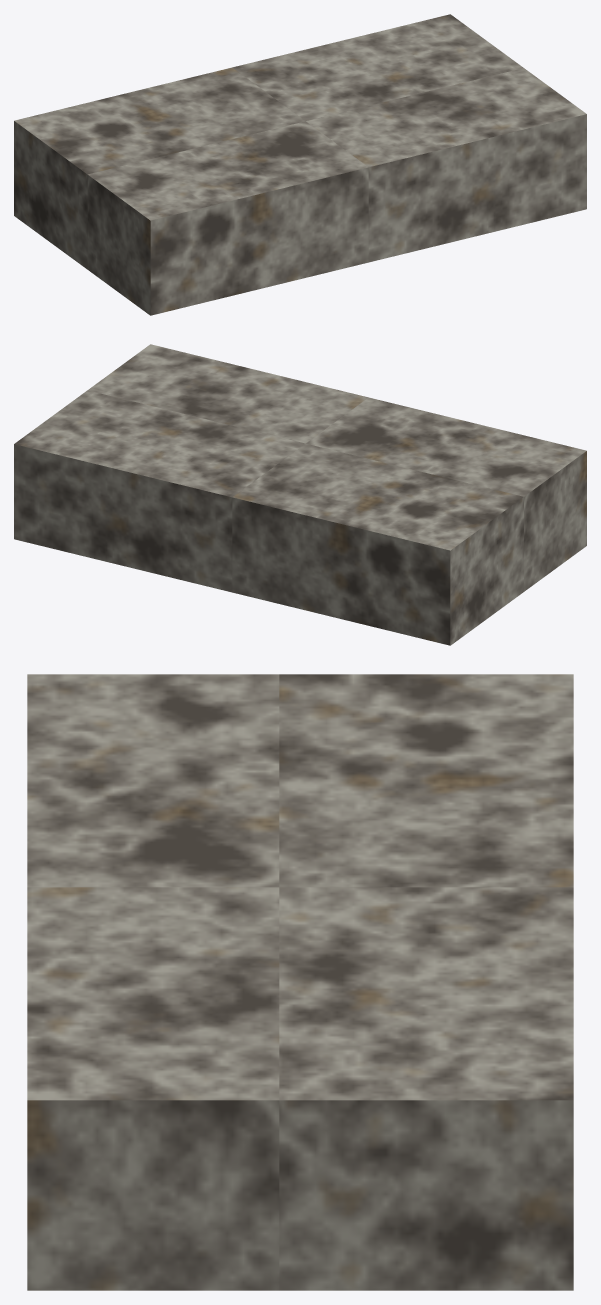
Rendered from floor_doorstep_stone.glb.
3 renders of one model, top to bottom at view 1: azimuth 30°, elevation 25°; view 2: azimuth 150°, elevation 25°; view 3: azimuth 270°, elevation 25°, orthographic. The views are drawn at different scales.
Parts seen in each view (by area): view 1: town_floor_doorstep_stone; view 2: town_floor_doorstep_stone; view 3: town_floor_doorstep_stone.
Part boxes in pixels (x1,y1,x2,y2): town_floor_doorstep_stone: (14, 14, 586, 315); town_floor_doorstep_stone: (14, 344, 586, 645); town_floor_doorstep_stone: (27, 674, 573, 1290).
Size of the model in its own units: 0.75 by 0.1562 by 0.4062.
1 material, 1 textured.
